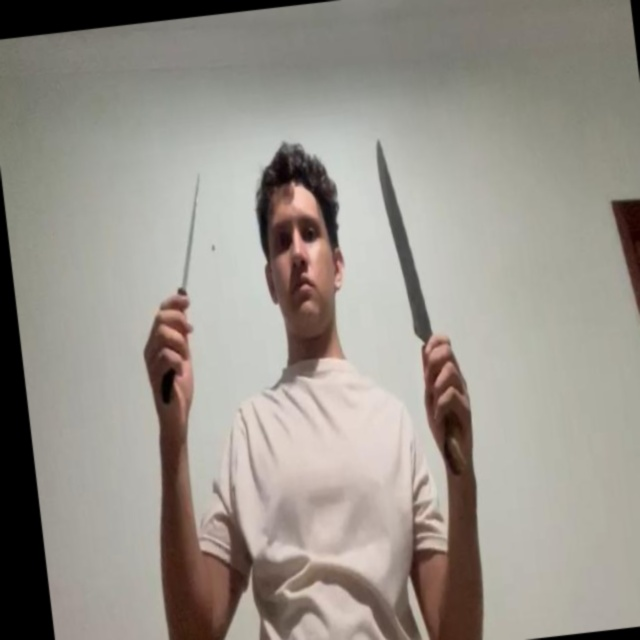Sharp-Object: (374, 136, 432, 341), (170, 170, 212, 286)
